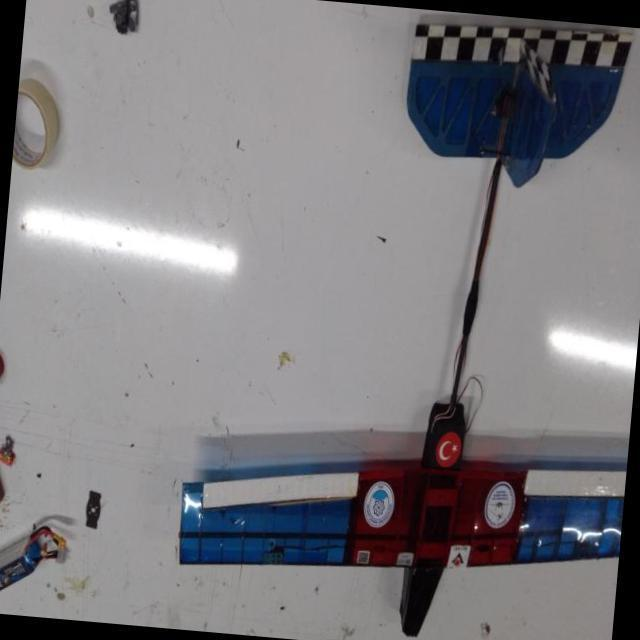iha: (169, 0, 640, 637)
